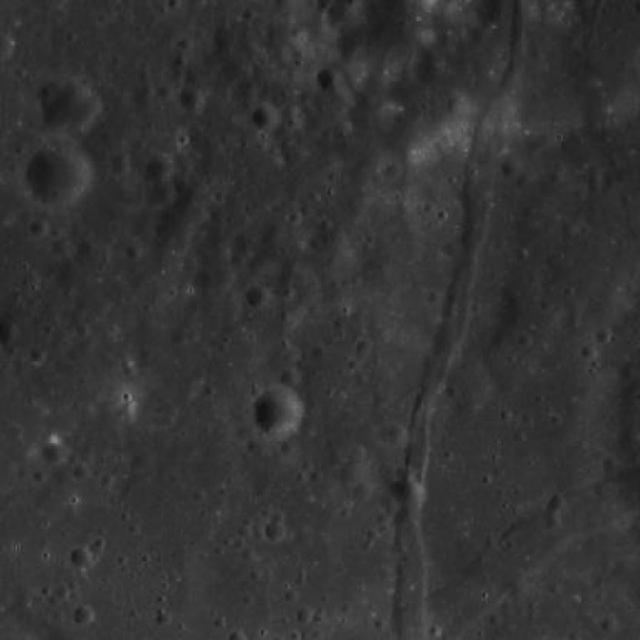crater: (540, 234, 636, 328), (24, 140, 90, 206), (38, 77, 100, 137), (331, 118, 384, 171), (252, 387, 302, 438), (302, 227, 352, 278), (348, 90, 396, 138), (441, 362, 488, 410), (274, 264, 318, 308), (192, 258, 235, 302), (153, 209, 193, 249), (76, 238, 112, 276), (332, 31, 366, 64), (143, 152, 174, 183), (390, 476, 421, 506), (220, 53, 251, 82), (251, 104, 280, 133), (315, 64, 343, 92), (147, 179, 175, 207), (504, 574, 532, 602), (378, 422, 406, 448), (177, 87, 203, 113), (310, 474, 336, 500), (212, 25, 237, 50), (43, 439, 68, 464), (233, 232, 258, 256), (444, 92, 468, 116), (338, 460, 362, 483), (331, 85, 354, 108), (246, 284, 269, 307), (68, 546, 92, 568), (0, 320, 20, 346), (34, 82, 56, 104), (236, 78, 258, 100), (278, 368, 300, 390), (264, 520, 286, 542), (352, 479, 374, 501), (73, 604, 95, 626), (52, 236, 74, 258), (262, 218, 284, 240), (500, 157, 520, 177), (110, 154, 130, 174), (29, 218, 49, 238), (125, 240, 144, 260), (179, 255, 198, 274), (600, 614, 618, 634), (583, 174, 602, 192), (356, 337, 374, 355), (72, 462, 90, 480), (292, 528, 310, 546), (384, 160, 401, 178), (278, 439, 296, 456), (294, 606, 312, 623), (228, 250, 246, 267), (546, 494, 563, 511), (582, 342, 598, 360), (396, 464, 412, 482), (442, 239, 458, 256), (252, 479, 268, 496), (594, 328, 610, 344), (584, 160, 600, 176), (30, 346, 46, 362), (54, 584, 70, 600), (118, 404, 134, 420), (72, 320, 88, 336)
